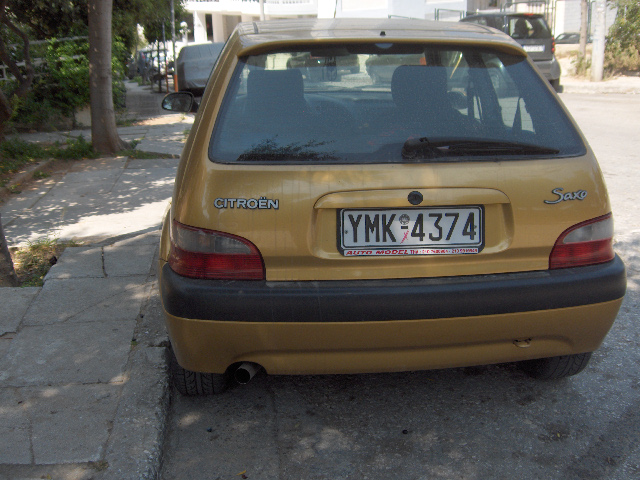licenseplate: (338, 207, 483, 247)
